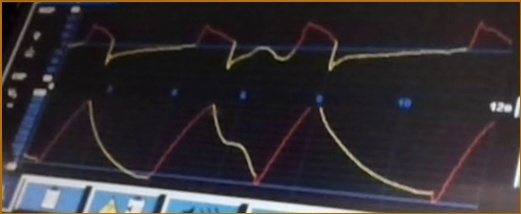Ineffective_effort Flow: (72, 13, 512, 77)
Ineffective_effort Volume: (22, 98, 491, 202)
